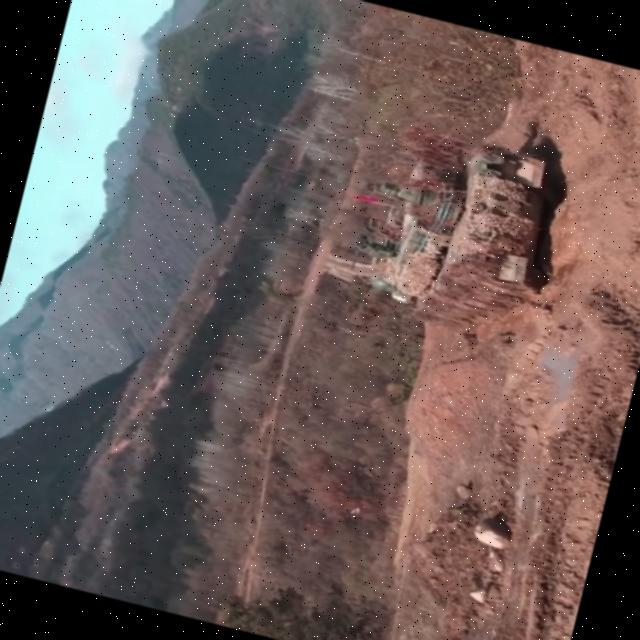korea tank: (328, 112, 576, 380)
